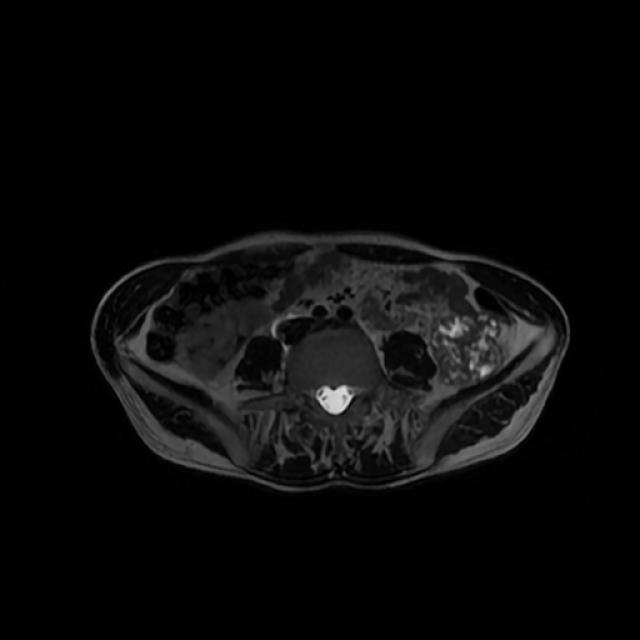sag: (180, 299, 274, 382)
